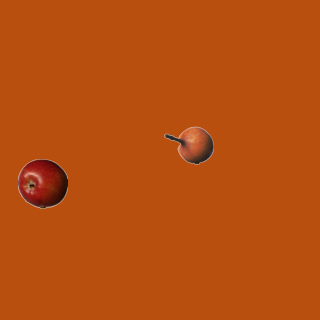Apple Braeburn: (17, 158, 67, 208)
Granadilla: (163, 120, 213, 170)
